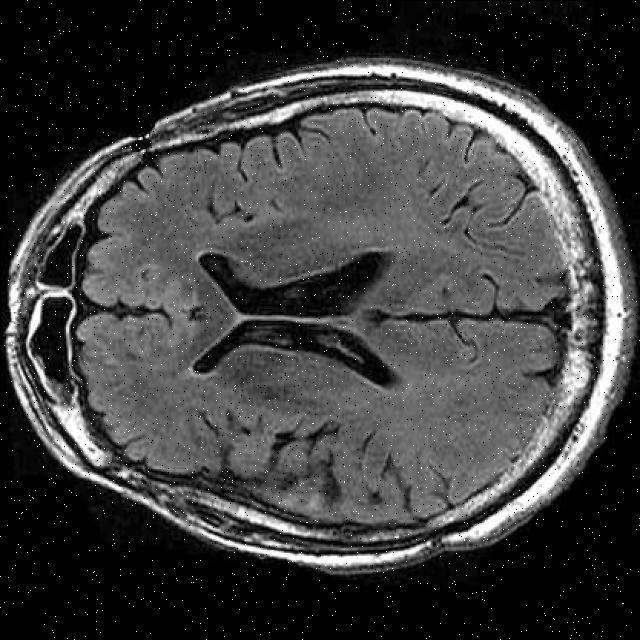No_Tumor: (6, 60, 636, 573)
